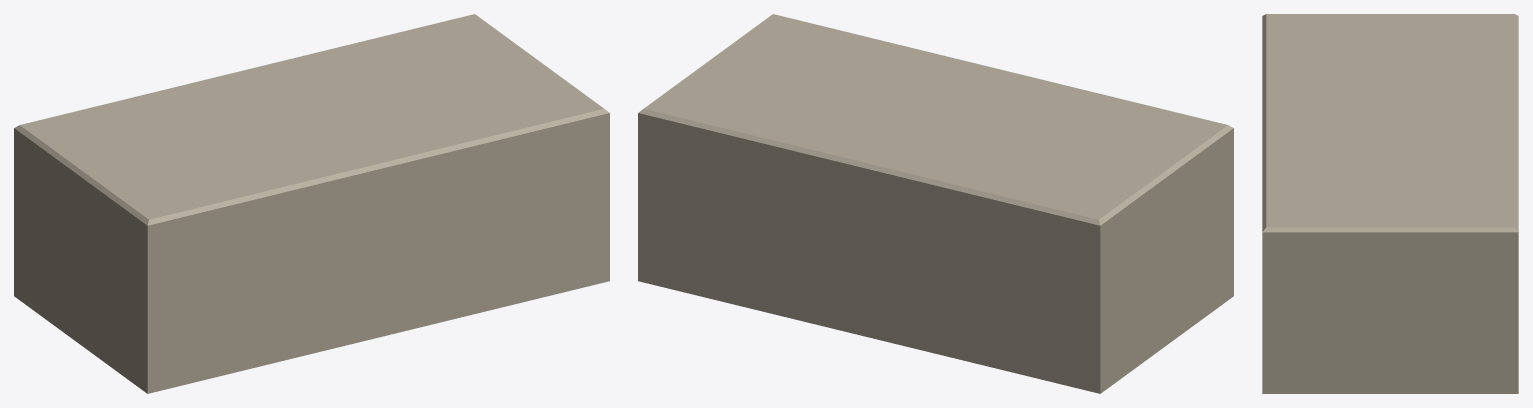
File: mahsulot.glb
The picture shows the model from 3 angles, left to right: view 1: azimuth 30°, elevation 25°; view 2: azimuth 150°, elevation 25°; view 3: azimuth 270°, elevation 25°; orthographic projection. The views are drawn at different scales.
Parts seen in each view (by area): view 1: mahsulot_A; view 2: mahsulot_A; view 3: mahsulot_A.
Part boxes in pixels (bbox=[...]): mahsulot_A: bbox=[14, 14, 609, 393]; mahsulot_A: bbox=[638, 14, 1233, 393]; mahsulot_A: bbox=[1262, 14, 1518, 393].
Size of the model in its own units: 0.197 by 0.07 by 0.0985.
